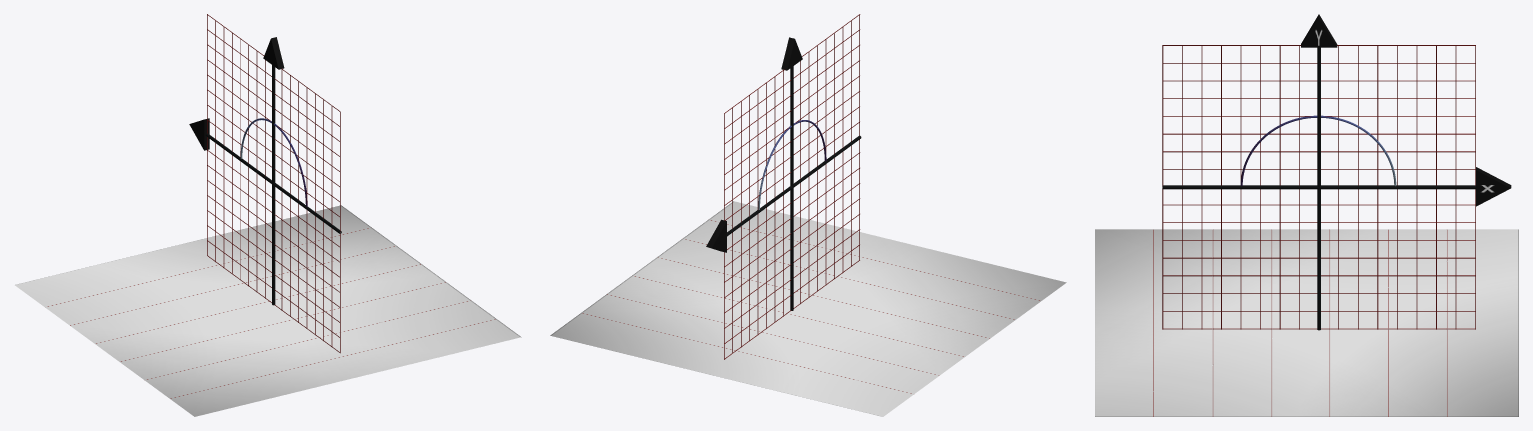
File: y=sqrt(1-(x+k)^2) mayor.fbx
3 renders of one model, left to right at view 1: azimuth 30°, elevation 25°; view 2: azimuth 150°, elevation 25°; view 3: azimuth 270°, elevation 25°, orthographic. The views are drawn at different scales.
Parts seen in each view (by area): view 1: circulo:plane1:pPlane1, circulo:pCylinder37, circulo:pCylinder36, circulo:pCylinder19, circulo:pCylinder29; view 2: circulo:plane1:pPlane1, circulo:pCylinder37, circulo:pCylinder36, circulo:pCylinder22, circulo:pCylinder25; view 3: circulo:plane1:pPlane1, circulo:pCylinder36, circulo:pCylinder37, circulo:nueva_flecha_x1:polySurface1, circulo:Nueva_flecha_y1:polySurface1, circulo:pCylinder14, circulo:CIRCULO:Mesh, circulo:pCylinder3, circulo:pCylinder10, circulo:pCylinder17, circulo:pCylinder13, circulo:pCylinder7 (+8 smaller).
Boxes of the visible parts, x1,y1,x2,y2 form: circulo:plane1:pPlane1: [15, 205, 521, 416]; circulo:pCylinder37: [272, 65, 275, 305]; circulo:pCylinder36: [205, 133, 341, 233]; circulo:pCylinder19: [331, 106, 332, 346]; circulo:pCylinder29: [256, 51, 257, 292]; circulo:plane1:pPlane1: [550, 201, 1066, 416]; circulo:pCylinder37: [790, 66, 793, 310]; circulo:pCylinder36: [727, 136, 861, 236]; circulo:pCylinder22: [842, 27, 843, 272]; circulo:pCylinder25: [808, 52, 809, 297]; circulo:plane1:pPlane1: [1095, 229, 1518, 416]; circulo:pCylinder36: [1162, 185, 1475, 189]; circulo:pCylinder37: [1317, 47, 1320, 330]; circulo:nueva_flecha_x1:polySurface1: [1476, 167, 1511, 206]; circulo:Nueva_flecha_y1:polySurface1: [1301, 14, 1337, 47]; circulo:pCylinder14: [1163, 275, 1475, 276]; circulo:CIRCULO:Mesh: [1240, 115, 1396, 186]; circulo:pCylinder3: [1163, 80, 1475, 81]; circulo:pCylinder10: [1162, 204, 1475, 205]; circulo:pCylinder17: [1162, 328, 1475, 329]; circulo:pCylinder13: [1162, 257, 1475, 258]; circulo:pCylinder7: [1163, 151, 1475, 152].
Size of the model in its own units: 56.75 by 44.29 by 54.19.
